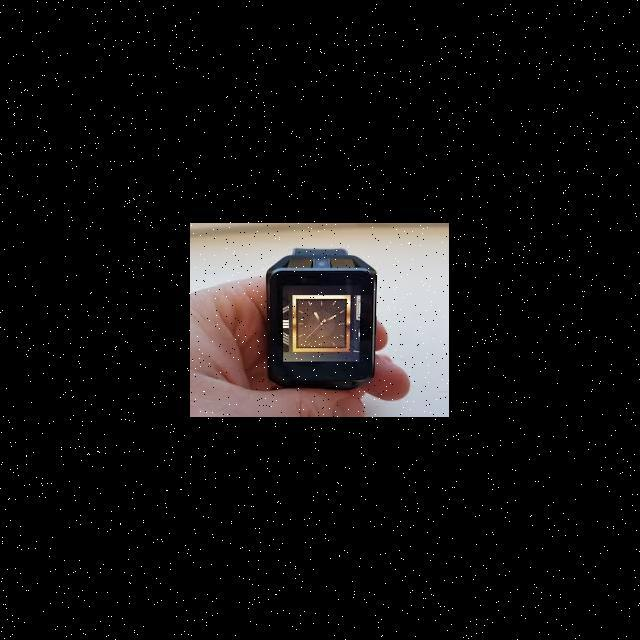watch: (254, 238, 384, 397)
